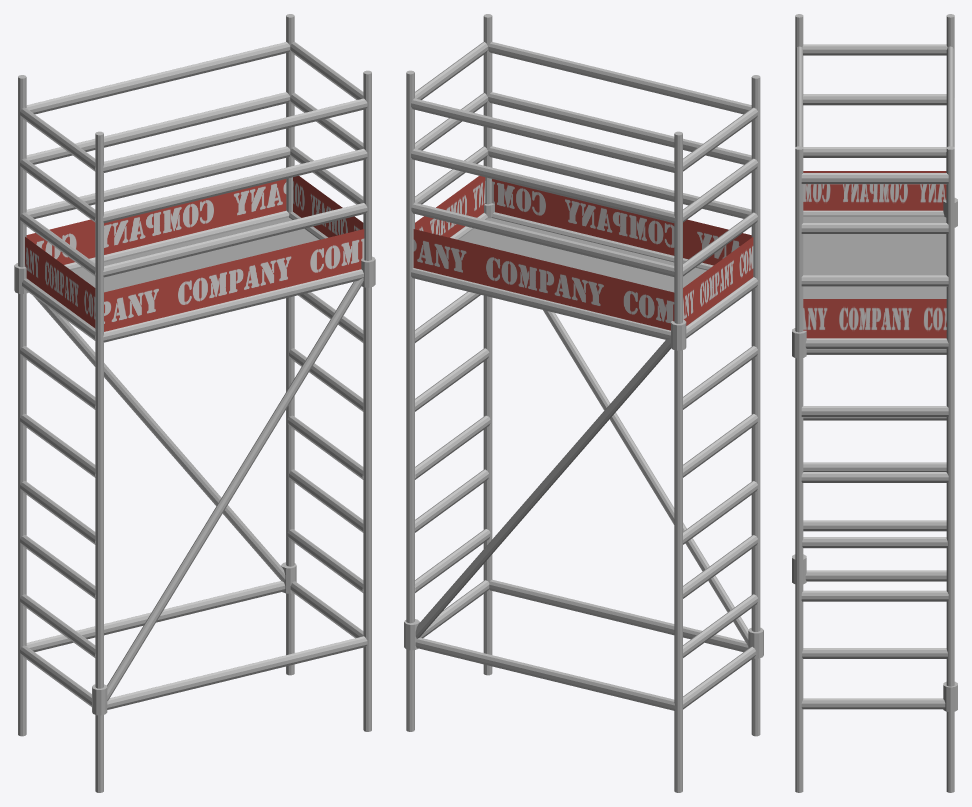
Rendered from geruest_03.fbx.
3 views of the same model, side by side, from view 1: azimuth 30°, elevation 25°; view 2: azimuth 150°, elevation 25°; view 3: azimuth 270°, elevation 25° (orthographic). The views are drawn at different scales.
Parts seen in each view (by area): view 1: geruest, schutz_01, schutz_02, boden, schutz_03, schutz_04; view 2: geruest, schutz_02, schutz_01, boden, schutz_03, schutz_04; view 3: geruest, boden, schutz_04, schutz_03.
Part boxes in pixels (<box>): geruest: <box>14,14,375,792</box>; schutz_01: <box>104,229,364,331</box>; schutz_02: <box>26,179,286,264</box>; boden: <box>71,217,319,292</box>; schutz_03: <box>25,237,95,328</box>; schutz_04: <box>293,176,363,237</box>; geruest: <box>404,14,763,792</box>; schutz_02: <box>413,229,674,330</box>; schutz_01: <box>492,179,751,265</box>; boden: <box>459,218,706,292</box>; schutz_03: <box>683,237,753,325</box>; schutz_04: <box>415,176,485,237</box>; geruest: <box>792,14,957,792</box>; boden: <box>803,216,946,298</box>; schutz_04: <box>803,299,946,338</box>; schutz_03: <box>803,171,946,210</box>.
Size of the model in its own units: 6.3 by 14.16 by 3.29.
3 materials, 1 textured.
